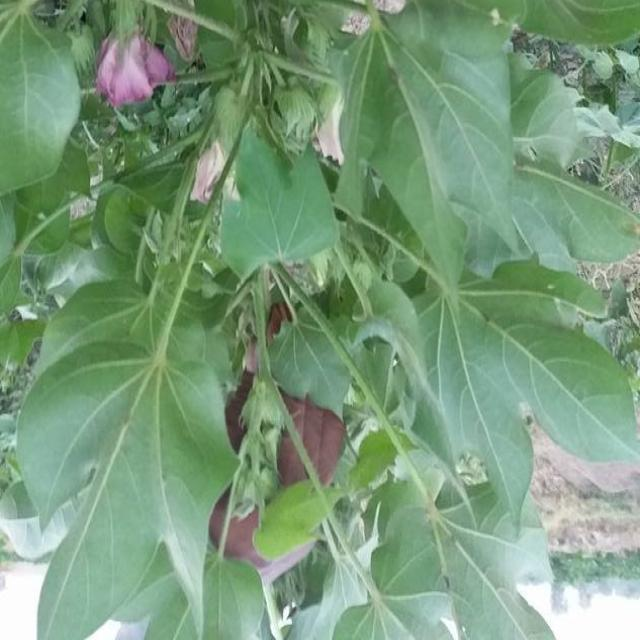Healthy Leaf: (16, 25, 640, 639)
